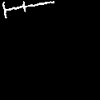double_crochet: (3, 1, 53, 17)
